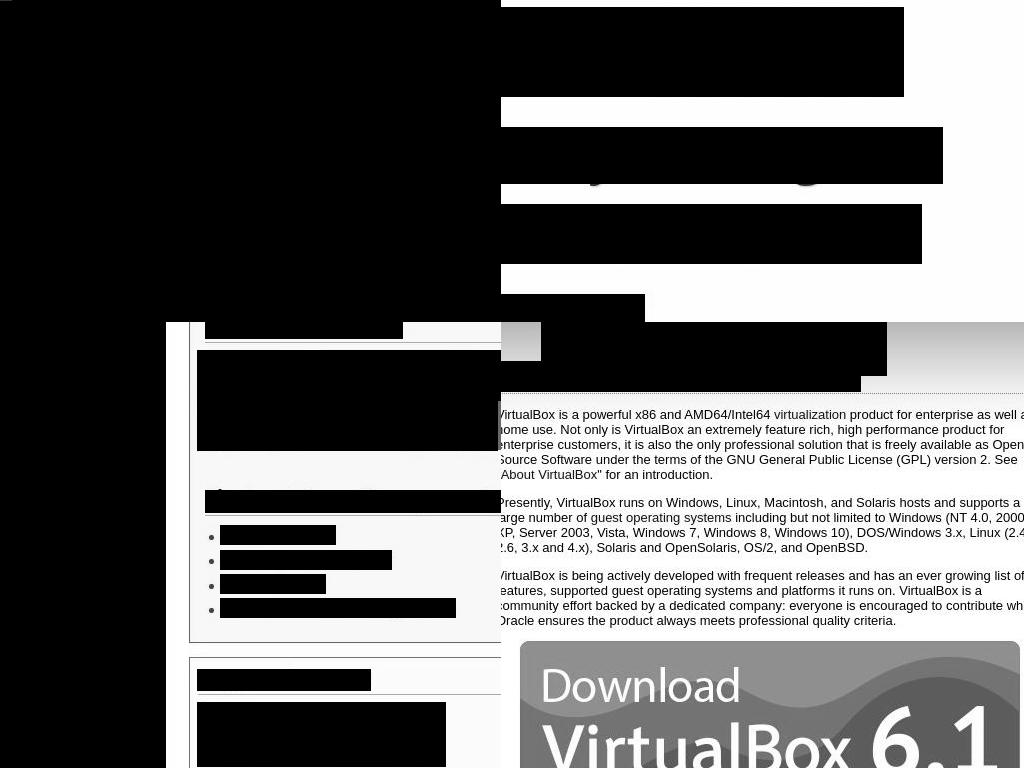button: (501, 640, 1024, 768), (12, 0, 127, 70), (272, 5, 398, 45), (147, 5, 272, 45), (398, 5, 501, 45), (501, 294, 645, 322)
heading: (0, 322, 166, 768), (501, 127, 943, 184), (501, 361, 861, 392), (205, 490, 501, 513), (197, 669, 371, 691), (205, 322, 403, 339), (3, 498, 140, 515), (3, 637, 140, 654), (3, 744, 140, 761)
iframe: (501, 7, 904, 97)
image: (0, 1, 501, 322), (520, 640, 1021, 768), (541, 322, 887, 376), (197, 702, 446, 767), (197, 350, 501, 401), (197, 400, 498, 451), (24, 0, 115, 50)
link: (220, 598, 456, 618), (220, 550, 392, 570), (20, 595, 98, 625), (220, 525, 336, 545), (590, 509, 732, 525), (220, 574, 326, 594), (20, 557, 137, 574), (20, 519, 122, 536), (20, 715, 116, 732), (8, 374, 103, 391), (501, 466, 597, 482), (8, 412, 97, 429), (20, 538, 108, 555), (8, 431, 94, 448), (8, 450, 86, 467), (20, 576, 91, 593), (773, 406, 846, 422), (8, 393, 71, 410), (8, 355, 68, 372), (20, 696, 63, 713), (20, 658, 54, 675), (20, 677, 53, 694), (468, 0, 501, 16), (8, 469, 35, 486)
text: (501, 406, 1024, 482), (501, 567, 1024, 628), (501, 204, 922, 264), (501, 509, 1024, 555), (501, 494, 1020, 525), (197, 287, 501, 322), (501, 406, 774, 422), (597, 466, 714, 482)
